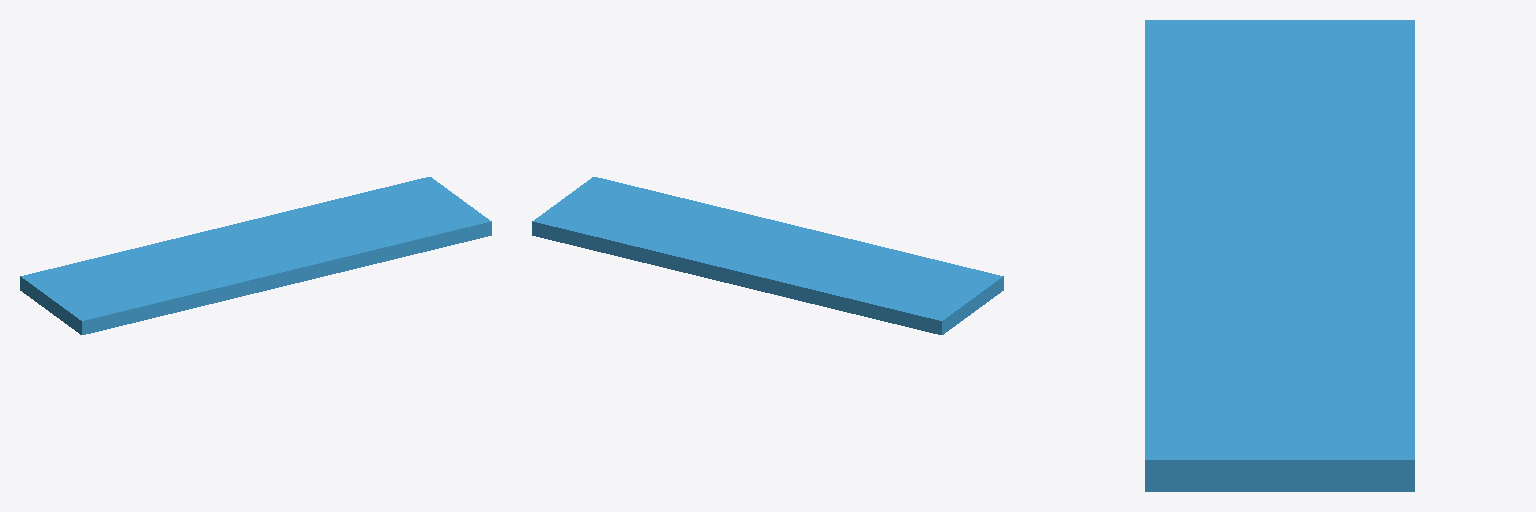
URDF robot description (cylinder_97):
    
    <robot name="cylinder_97">
        <link name="cylinder_97">    
            <fem>
                <origin rpy="0.0 0.0 0.0" xyz="0 0 0" />
                <density value="100" />
                <youngs value="10728"/>
                <poissons value="0.3" />
                <damping value="0.0" />
                <attachDistance value="0.01" />
                <tetmesh filename="[local-path]/sim_data/Custom/Custom_mesh/multi_cylinders_10kPa/cylinder_97.tet" />
                <scale value="0.5"/>
            </fem>
        </link>

        <link name="fix_frame">
            <visual>
                <origin xyz="0.0 0.0 10.095056404258234"/>
                <geometry>
                    <box size="0.15 0.03898133876700445 0.005"/>
                </geometry>
            </visual>
            <collision>
                <origin xyz="0.0 0.0 0.09505640425823306"/>
                <geometry>
                    <box size="0.15 0.03898133876700445 0.005"/>
                </geometry>
            </collision>
            <inertial>
                <mass value="500000"/>
                <inertia ixx="0.05" ixy="0.0" ixz="0.0" iyy="0.05" iyz="0.0" izz="0.05"/>
            </inertial>
        </link>
        
        <joint name = "attach" type = "fixed">
            <origin xyz = "0.0 0.0 0.0" rpy = "0 0 0"/>
            <parent link ="cylinder_97"/>
            <child link = "fix_frame"/>
        </joint>  




    </robot>
    

--- What the picture shows (computed from the rendered views, not written in the file) ---
Views: 3 orthographic renders of the robot side by side, from view 1: azimuth 30°, elevation 25°; view 2: azimuth 150°, elevation 25°; view 3: azimuth 270°, elevation 25°.
Robot: cylinder_97 — 2 links, 1 joints (1 fixed); root link cylinder_97; default pose: every joint at zero.
Links seen in each view (by area): view 1: fix_frame; view 2: fix_frame; view 3: fix_frame.
Link boxes in pixels (x1,y1,x2,y2): fix_frame: (20,177,491,334); fix_frame: (532,177,1003,334); fix_frame: (1145,20,1414,491).
Bounding box of the posed robot: 0.15 × 0.039 × 0.005 m (x, y, z).
Geometry: primitives only (box / cylinder / sphere), no mesh files.